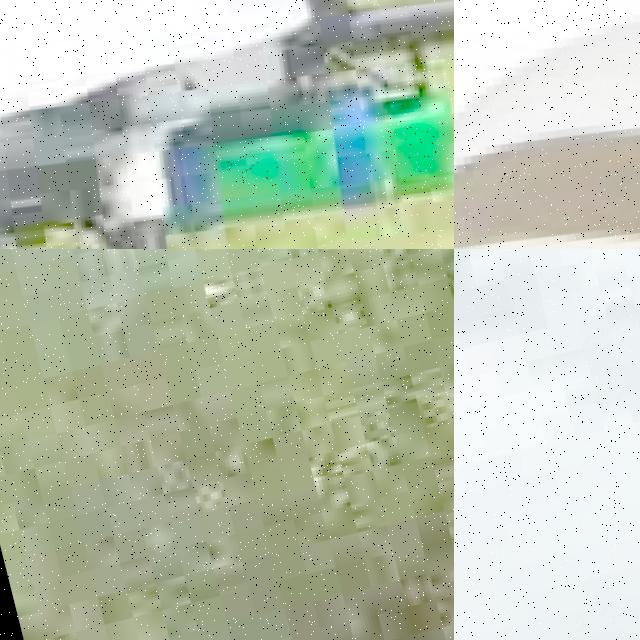0: (0, 0, 454, 249)
drone: (454, 0, 640, 249)
